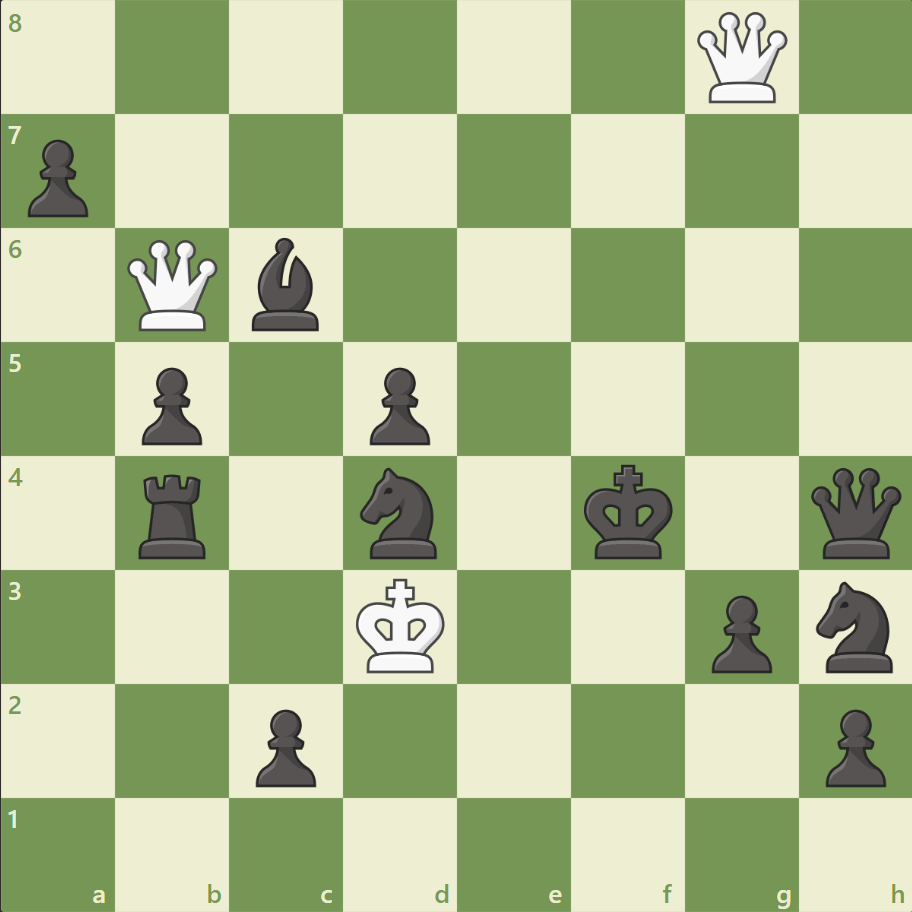K: (351, 571, 451, 679)
Q: (691, 9, 790, 108), (124, 236, 223, 335)
b: (244, 233, 328, 336)
k: (579, 458, 679, 566)
n: (351, 461, 449, 564), (806, 575, 903, 677)
p: (20, 132, 95, 223), (133, 359, 208, 450), (701, 586, 776, 677), (247, 700, 322, 791), (361, 359, 435, 450), (815, 700, 889, 791)
q: (805, 463, 904, 562)
r: (133, 466, 215, 563)
